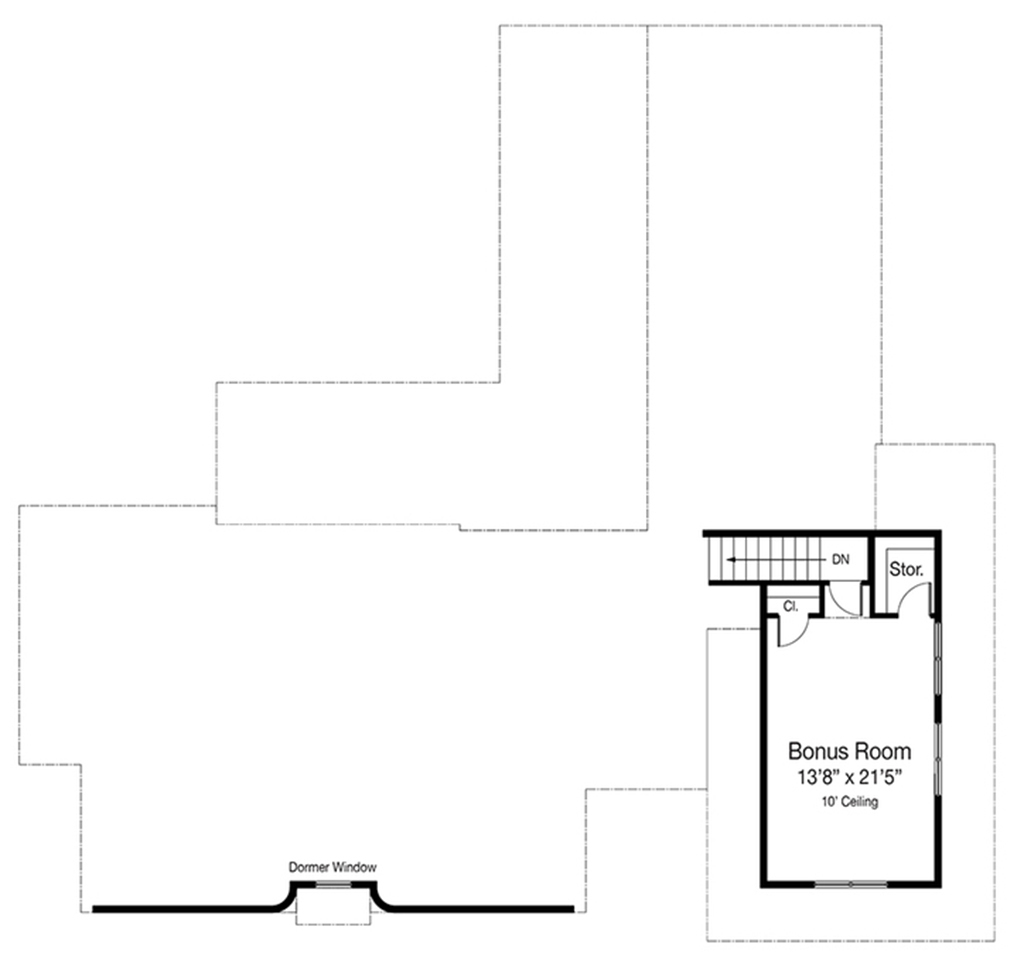door: (771, 611, 810, 650), (895, 583, 935, 618), (827, 576, 861, 614)
stairs: (699, 530, 831, 582)
windows: (806, 877, 889, 894), (931, 720, 945, 800), (932, 619, 944, 694)
